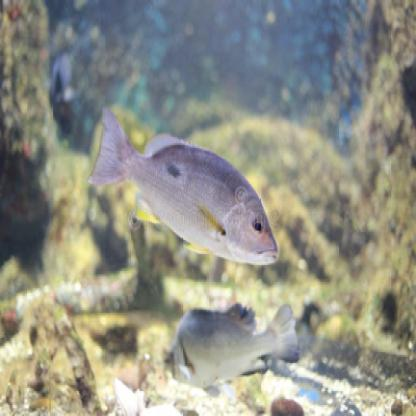Lutjanidae -Snappers-: (84, 102, 281, 269)
